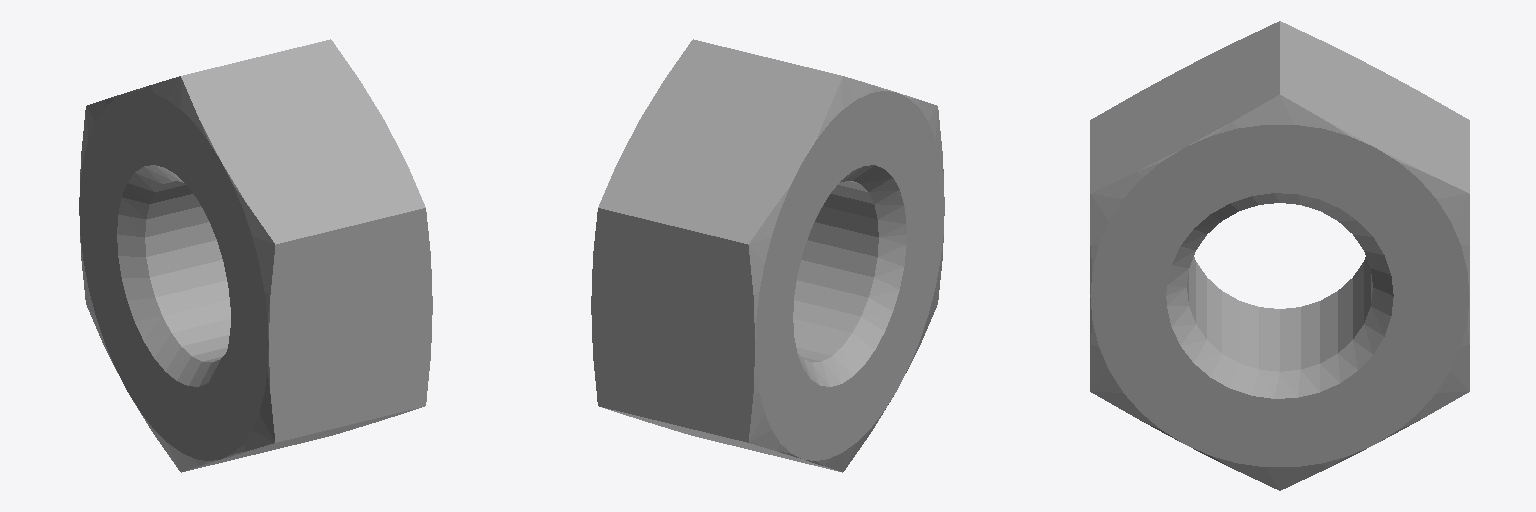
File: Hexagonal_head_nuts_m6.obj
3 renders of one model, left to right at view 1: azimuth 30°, elevation 25°; view 2: azimuth 150°, elevation 25°; view 3: azimuth 270°, elevation 25°, orthographic.
Parts seen in each view (by area): view 1: 07210-06_1; view 2: 07210-06_1; view 3: 07210-06_1.
Boxes of the visible parts, box(x1,y1,x2,y2) form: 07210-06_1: box(79, 39, 432, 472); 07210-06_1: box(591, 39, 944, 472); 07210-06_1: box(1090, 21, 1469, 490).
Size of the model in its own units: 5 by 11.55 by 10.